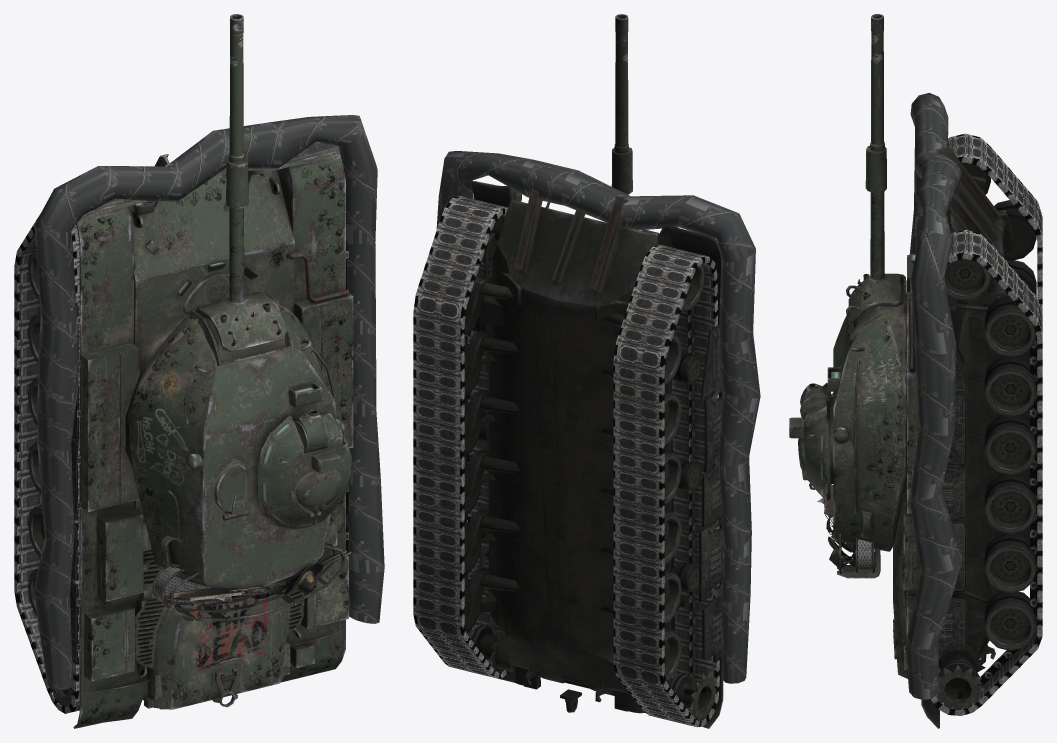
The picture shows the model from 3 angles, left to right: view 1: azimuth 30°, elevation 25°; view 2: azimuth 150°, elevation 25°; view 3: azimuth 270°, elevation 25°; orthographic projection. The views are drawn at different scales.
Parts seen in each view (by area): view 1: hull_nc, turret_01, hull_barbed_wire, hull, chassis_track_L, turret_01_nc, gun_01, gun_01_mask, turret_01_mset, hull_mset, turret_01_grill, chassis_wheel_L_08; view 2: hull, chassis_track_L, chassis_track_R, hull_barbed_wire, hull_nc, hull_mset, gun_01, chassis_wheel_L_11, chassis_wheel_R_11, chassis_wheel_L_04, chassis_wheel_L_07, chassis_wheel_L_05 (+7 smaller); view 3: hull_barbed_wire, turret_01, hull, hull_nc, chassis_track_R, hull_mset, gun_01, chassis_track_L, chassis_wheel_R_04, chassis_wheel_R_08, chassis_wheel_R_07, chassis_wheel_R_05 (+10 smaller).
Boxes of the visible parts, box(x1,y1,x2,y2) form: hull_nc: box(73, 141, 353, 728); turret_01: box(130, 292, 351, 590); hull_barbed_wire: box(33, 115, 384, 689); hull: box(124, 168, 304, 709); chassis_track_L: box(14, 213, 79, 713); turret_01_nc: box(152, 339, 347, 622); gun_01: box(226, 14, 248, 302); gun_01_mask: box(199, 293, 287, 351); turret_01_mset: box(159, 371, 351, 610); hull_mset: box(70, 239, 350, 663); turret_01_grill: box(154, 540, 327, 603); chassis_wheel_L_08: box(28, 505, 44, 557); hull: box(488, 199, 674, 694); chassis_track_L: box(613, 245, 719, 727); chassis_track_R: box(413, 196, 509, 678); hull_barbed_wire: box(436, 151, 760, 683); hull_nc: box(463, 179, 723, 728); hull_mset: box(464, 324, 723, 661); gun_01: box(611, 14, 632, 194); chassis_wheel_L_11: box(666, 672, 716, 721); chassis_wheel_R_11: box(466, 624, 503, 672); chassis_wheel_L_04: box(664, 391, 681, 444); chassis_wheel_L_07: box(664, 510, 681, 563); chassis_wheel_L_05: box(664, 451, 681, 503); hull_barbed_wire: box(905, 93, 962, 699); turret_01: box(798, 273, 906, 551); hull: box(893, 209, 1004, 678); hull_nc: box(893, 143, 1016, 728); chassis_track_R: box(931, 230, 1042, 715); hull_mset: box(939, 348, 968, 659); gun_01: box(865, 14, 886, 279); chassis_track_L: box(948, 133, 1042, 312); chassis_wheel_R_04: box(984, 356, 1036, 416); chassis_wheel_R_08: box(984, 533, 1036, 593); chassis_wheel_R_07: box(984, 474, 1036, 534); chassis_wheel_R_05: box(984, 415, 1036, 475).
Bounding box in the file's own units: 4.72 × 9.23 × 3.25.
Materials: 4 (4 with a texture image).
